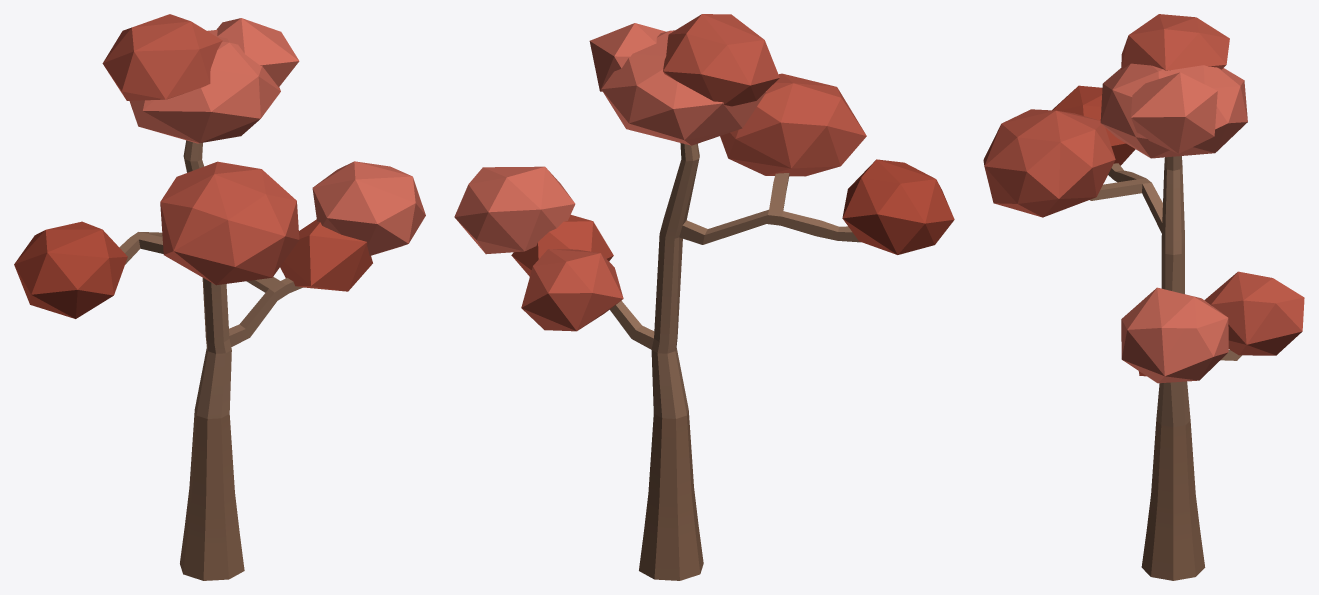
The model's file is japan_tree_3.fbx.
The picture shows the model from 3 angles, left to right: view 1: azimuth 30°, elevation 25°; view 2: azimuth 150°, elevation 25°; view 3: azimuth 270°, elevation 25°; orthographic projection. The views are drawn at different scales.
Parts seen in each view (by area): view 1: japan_tree_3; view 2: japan_tree_3; view 3: japan_tree_3.
Part boxes in pixels (bbox=[...]): japan_tree_3: bbox=[14, 14, 425, 580]; japan_tree_3: bbox=[454, 14, 954, 580]; japan_tree_3: bbox=[983, 14, 1304, 580].
Size of the model in its own units: 559 by 673 by 372.
